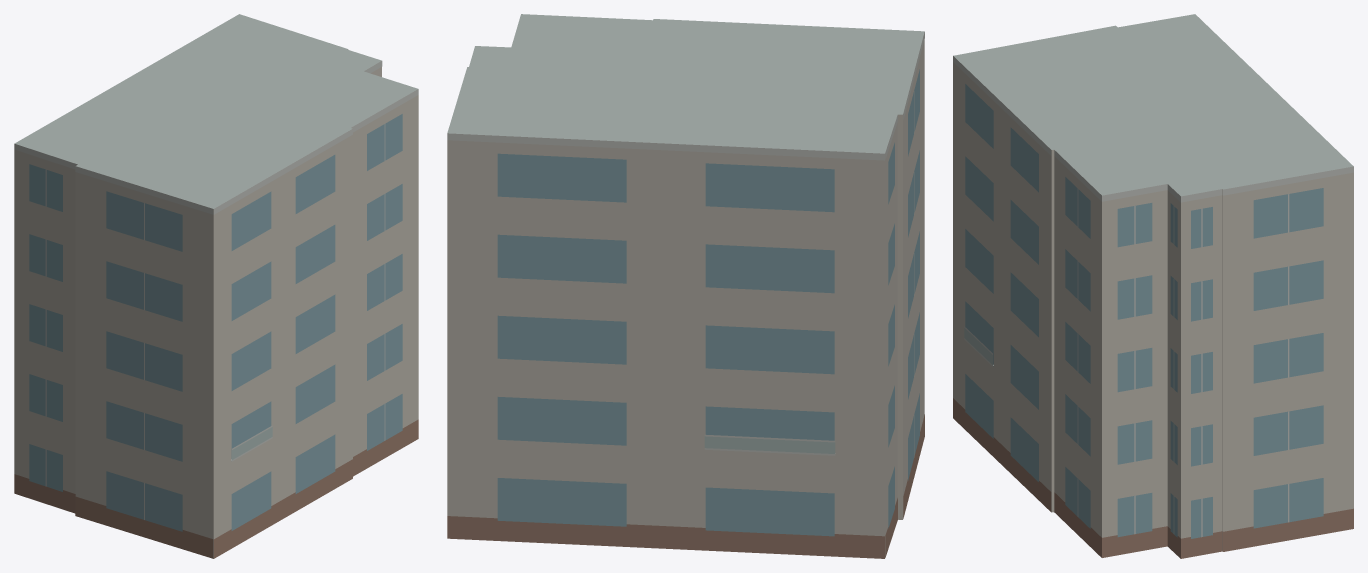
The model's file is survey-upis-32881039.glb.
3 renders of one model, left to right at view 1: azimuth 30°, elevation 25°; view 2: azimuth 150°, elevation 25°; view 3: azimuth 270°, elevation 25°, orthographic. The views are drawn at different scales.
Visible parts, largest first — view 1: survey-upis-32881039.tmp; view 2: survey-upis-32881039.tmp; view 3: survey-upis-32881039.tmp.
Boxes of the visible parts, box(x1,y1,x2,y2) form: survey-upis-32881039.tmp: box(14, 14, 418, 558); survey-upis-32881039.tmp: box(447, 14, 924, 558); survey-upis-32881039.tmp: box(953, 14, 1353, 558).
Size of the model in its own units: 15.55 by 14.4 by 14.44.
